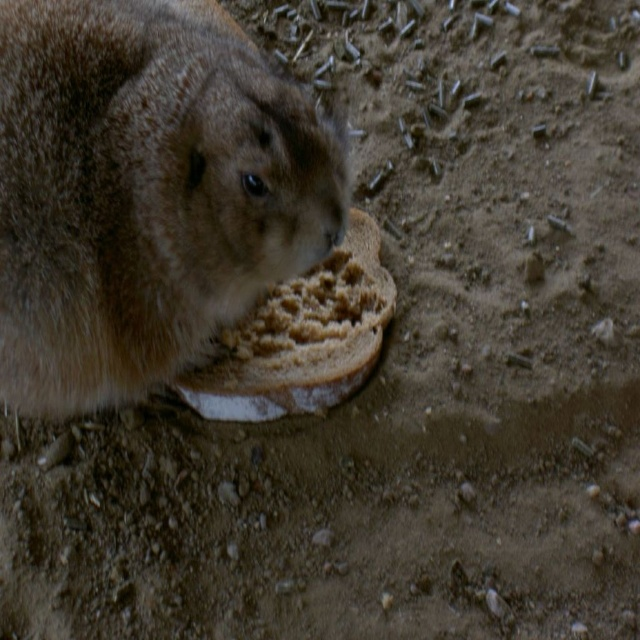Otter: (0, 0, 371, 434)
